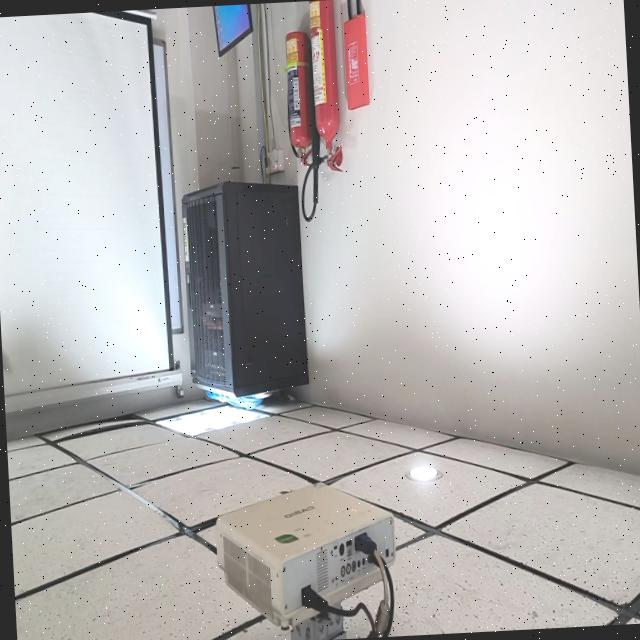Fire Extinguisher: (309, 0, 340, 170), (284, 32, 311, 161)
Light: (156, 404, 261, 435), (409, 466, 437, 481)
Monitor: (211, 3, 252, 55)
Projector: (214, 483, 395, 640)
